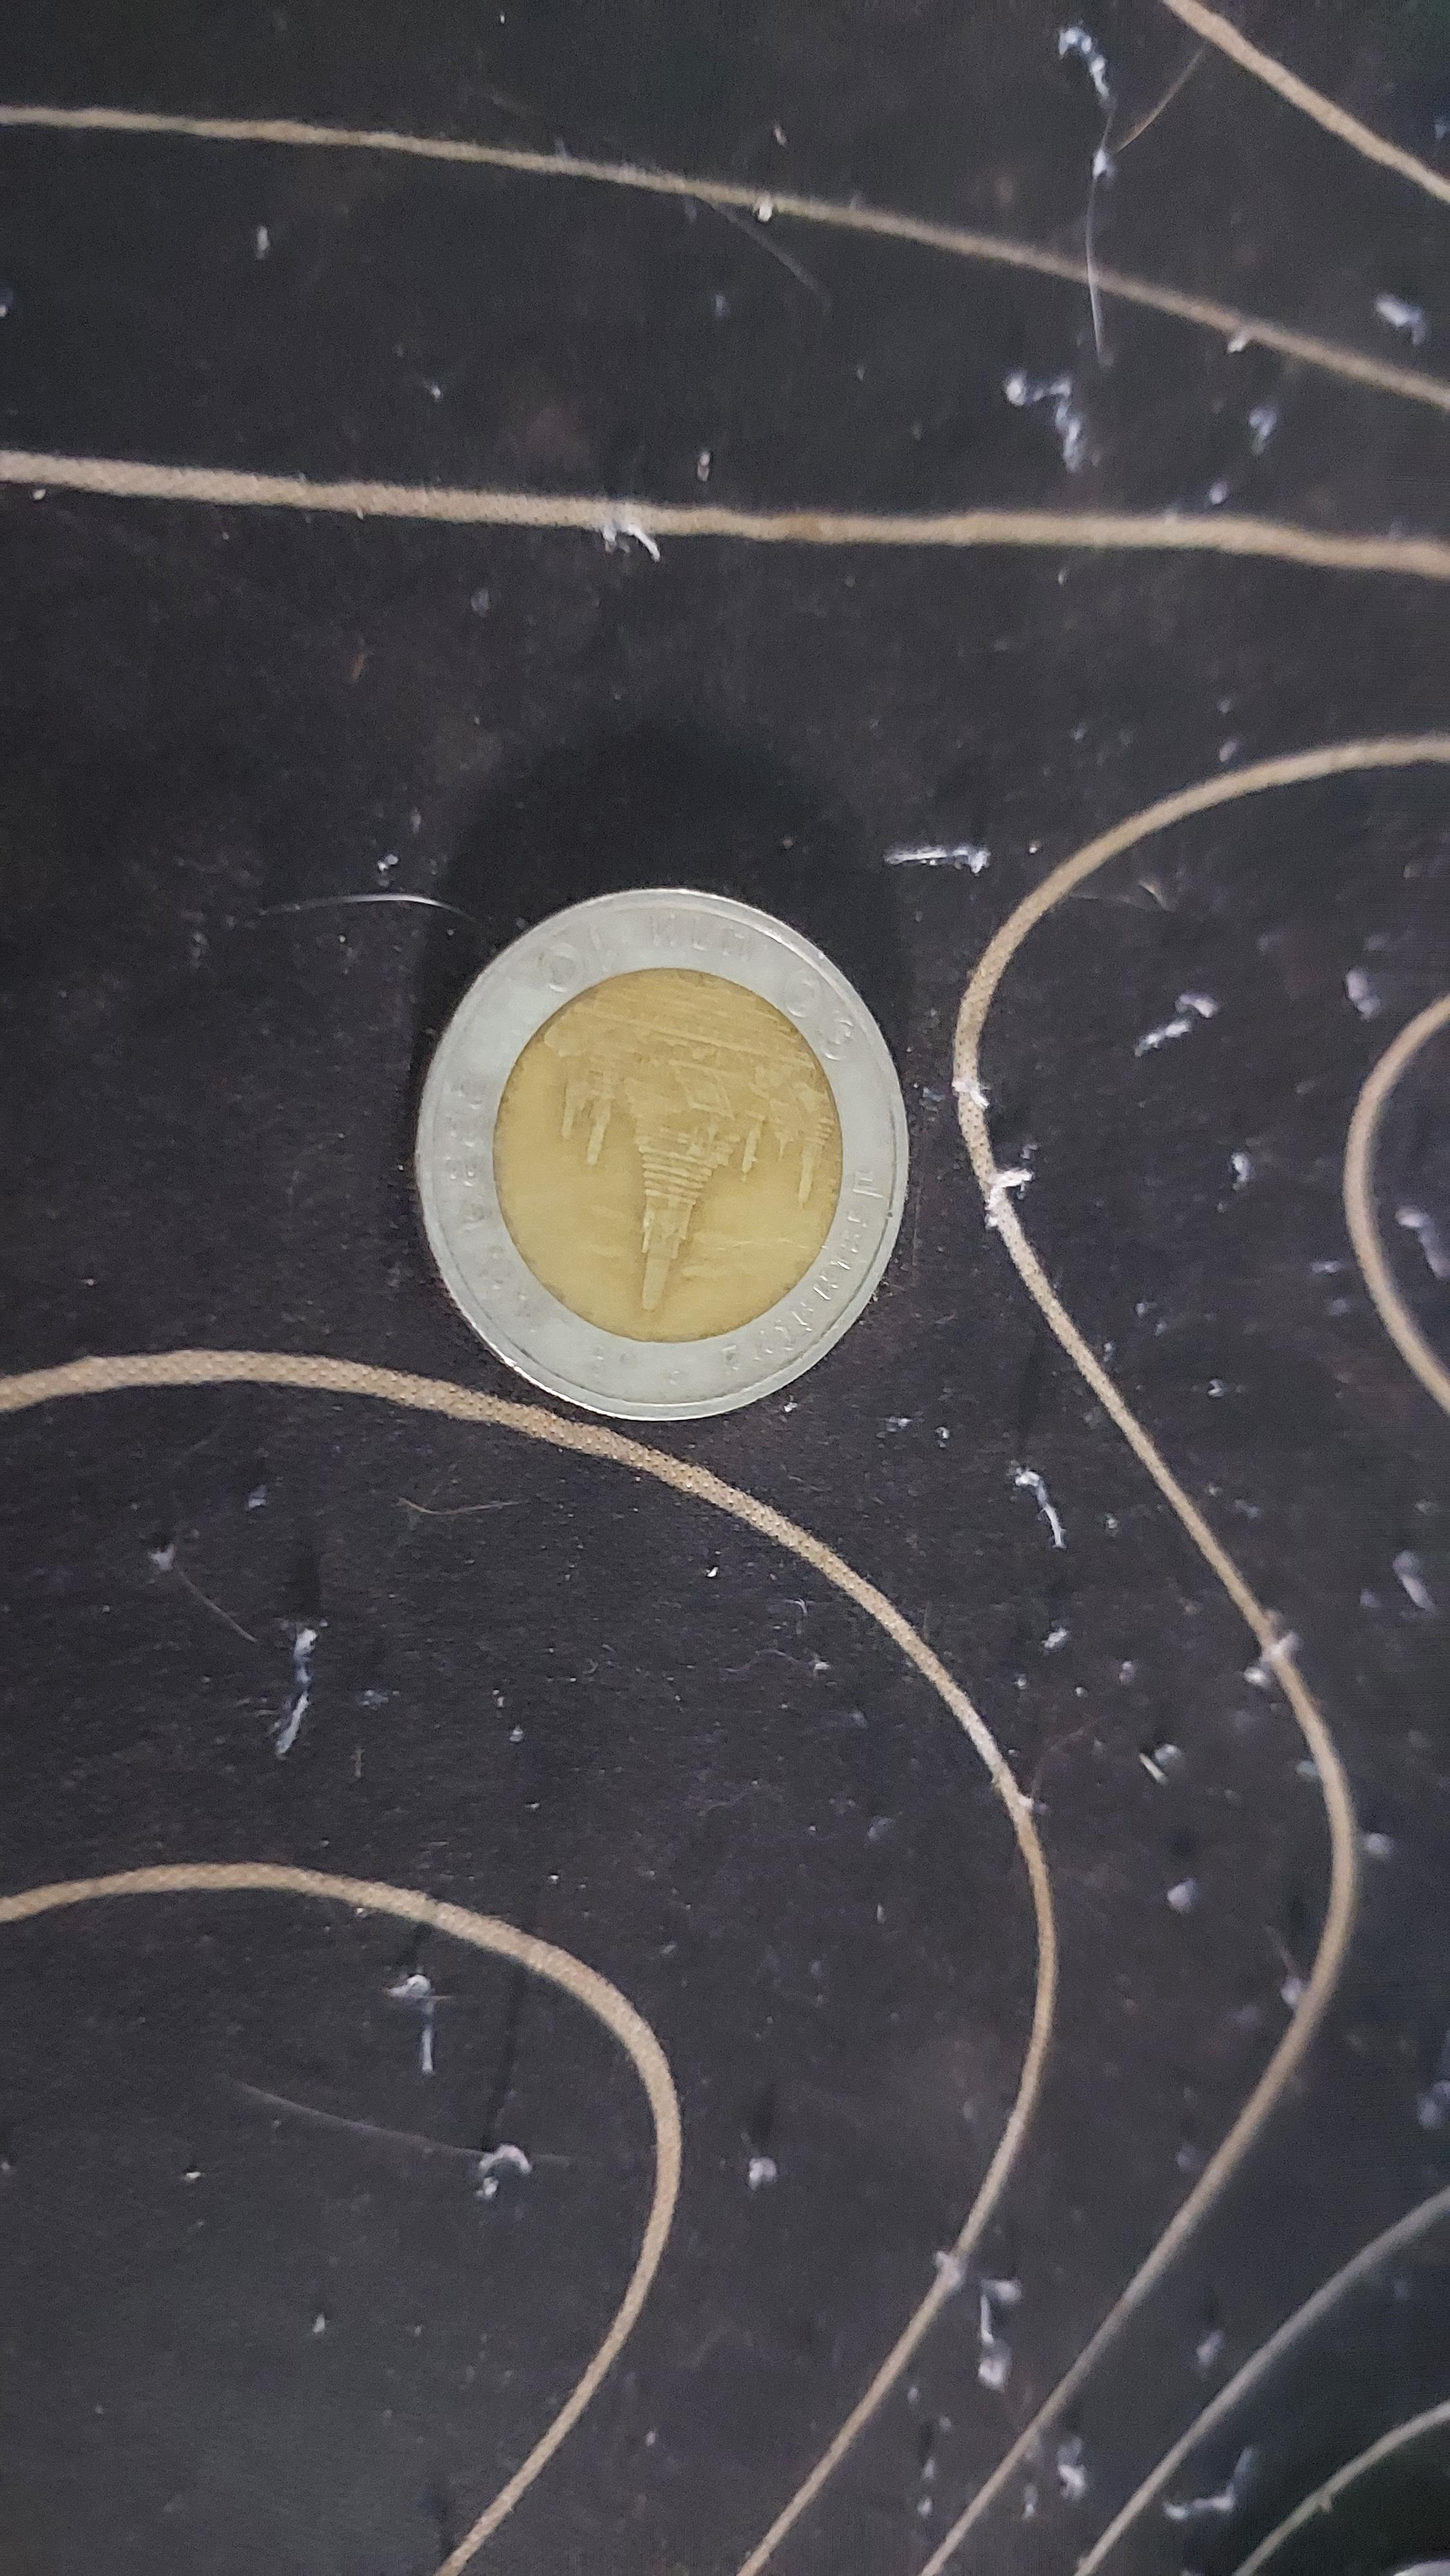10baht: (400, 872, 960, 1449)
